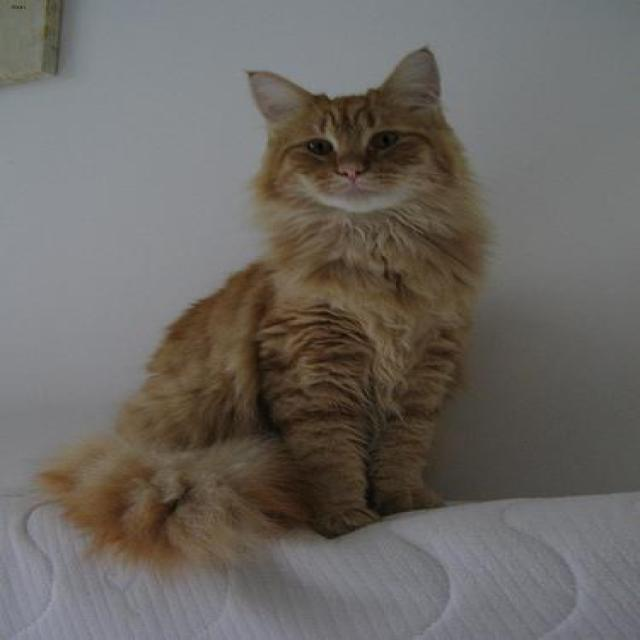cat: (49, 46, 483, 574)
